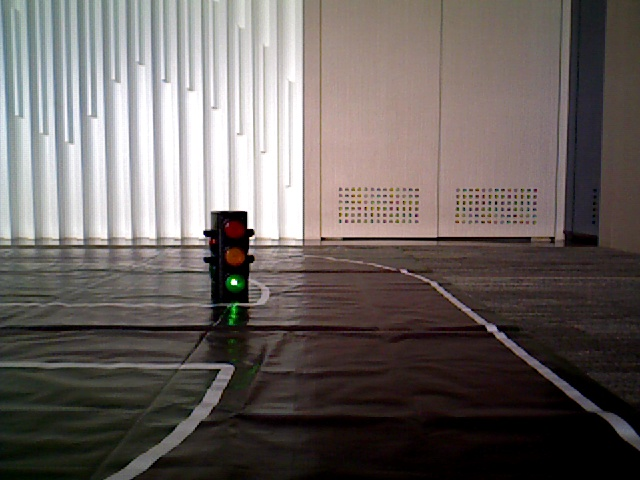green: (219, 214, 249, 292)
